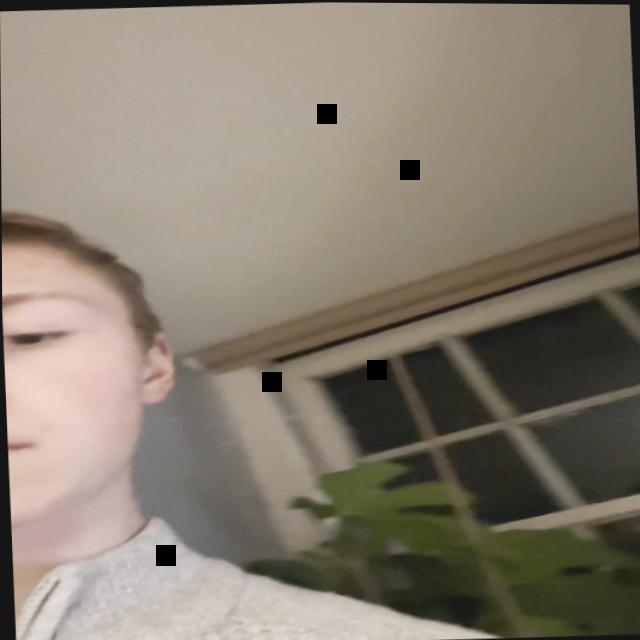NO-Mask: (1, 229, 160, 536)
